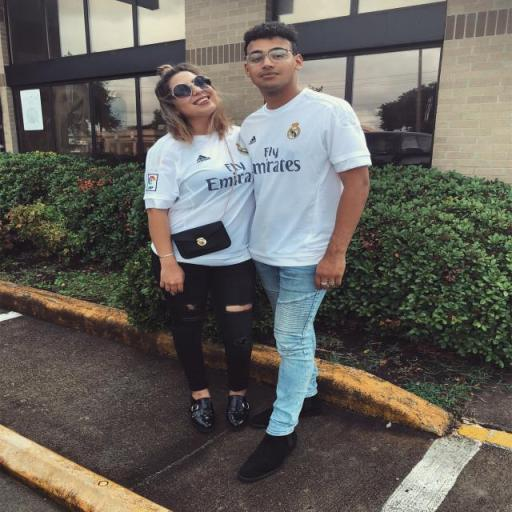Adidas: (196, 153, 212, 165), (248, 134, 258, 146)
Emirates: (248, 146, 302, 176), (204, 162, 254, 194)
